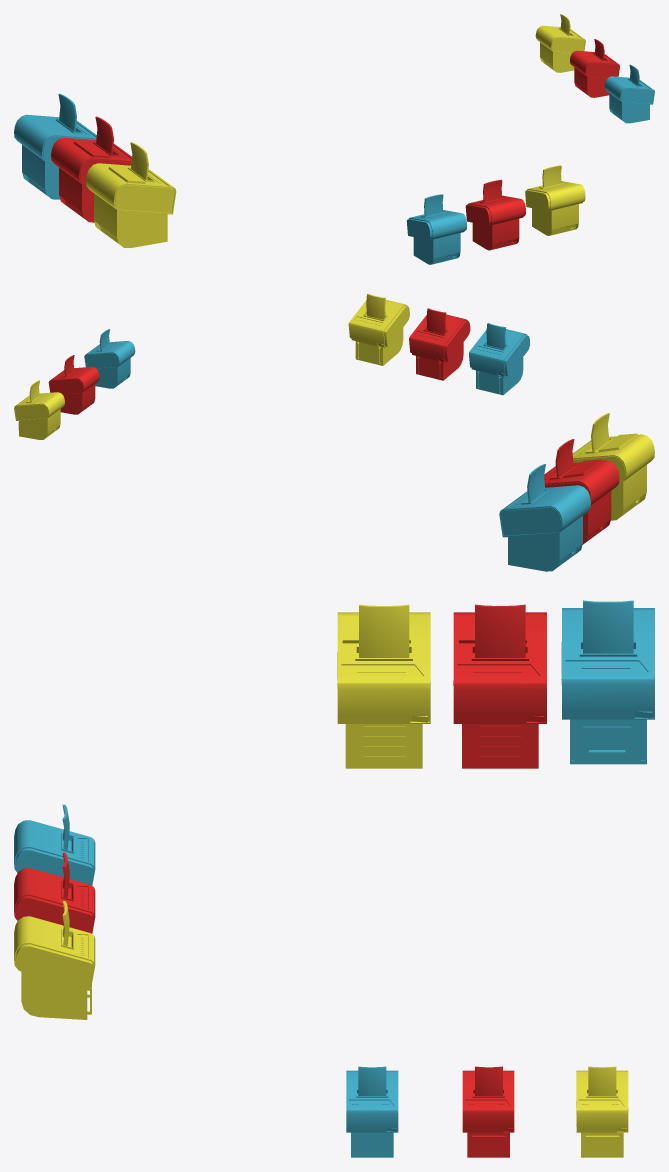
Rendered from Ticket printer .fbx.
3 views of the same model, one above another, from view 1: azimuth 30°, elevation 25°; view 2: azimuth 150°, elevation 25°; view 3: azimuth 270°, elevation 25° (orthographic). The views are drawn at different scales.
Parts seen in each view (by area): view 1: L BROWN TICKET COLLECTOR, L YELLOW TICKET COLLECTOR, L RED TICKET COLLECTOR, M SKIN TICKET COLLECTOR, M BLUE TICKET COLLECTOR, M TICKET COLLECT, S BLUE TICKET COLLECTOR, S WHITE TICKET COLLECTOR, S GRENN TICKET COLLCTOR; view 2: L YELLOW TICKET COLLECTOR, L BROWN TICKET COLLECTOR, L RED TICKET COLLECTOR, M TICKET COLLECT, M SKIN TICKET COLLECTOR, M BLUE TICKET COLLECTOR, S GRENN TICKET COLLCTOR, S BLUE TICKET COLLECTOR, S WHITE TICKET COLLECTOR; view 3: L BROWN TICKET COLLECTOR, L RED TICKET COLLECTOR, L YELLOW TICKET COLLECTOR, M TICKET COLLECT, S BLUE TICKET COLLECTOR, S GRENN TICKET COLLCTOR, S WHITE TICKET COLLECTOR, M SKIN TICKET COLLECTOR, M BLUE TICKET COLLECTOR.
Boxes of the visible parts, bbox=[...] form: L BROWN TICKET COLLECTOR: bbox=[86, 142, 176, 248]; L YELLOW TICKET COLLECTOR: bbox=[14, 93, 96, 199]; L RED TICKET COLLECTOR: bbox=[51, 116, 131, 222]; M SKIN TICKET COLLECTOR: bbox=[465, 179, 525, 250]; M BLUE TICKET COLLECTOR: bbox=[406, 194, 466, 264]; M TICKET COLLECT: bbox=[525, 165, 585, 235]; S BLUE TICKET COLLECTOR: bbox=[604, 64, 654, 123]; S WHITE TICKET COLLECTOR: bbox=[570, 39, 619, 97]; S GRENN TICKET COLLCTOR: bbox=[535, 14, 585, 72]; L YELLOW TICKET COLLECTOR: bbox=[499, 464, 590, 571]; L BROWN TICKET COLLECTOR: bbox=[572, 413, 654, 520]; L RED TICKET COLLECTOR: bbox=[544, 439, 619, 544]; M TICKET COLLECT: bbox=[348, 293, 409, 365]; M SKIN TICKET COLLECTOR: bbox=[409, 308, 470, 380]; M BLUE TICKET COLLECTOR: bbox=[469, 323, 529, 395]; S GRENN TICKET COLLCTOR: bbox=[14, 380, 64, 439]; S BLUE TICKET COLLECTOR: bbox=[84, 329, 135, 388]; S WHITE TICKET COLLECTOR: bbox=[48, 355, 99, 414]; L BROWN TICKET COLLECTOR: bbox=[337, 604, 430, 768]; L RED TICKET COLLECTOR: bbox=[453, 604, 546, 768]; L YELLOW TICKET COLLECTOR: bbox=[561, 600, 654, 764]; M TICKET COLLECT: bbox=[14, 901, 95, 1019]; S BLUE TICKET COLLECTOR: bbox=[346, 1066, 398, 1157]; S GRENN TICKET COLLCTOR: bbox=[576, 1066, 628, 1157]; S WHITE TICKET COLLECTOR: bbox=[462, 1066, 514, 1157]; M SKIN TICKET COLLECTOR: bbox=[14, 852, 95, 933]; M BLUE TICKET COLLECTOR: bbox=[14, 804, 95, 885].
Size of the model in its own units: 9.33 by 1.46 by 5.67.
